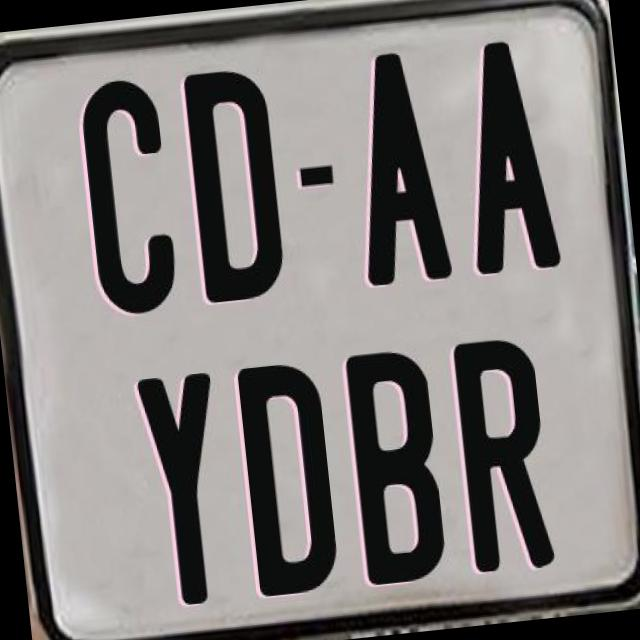A: (452, 38, 566, 283), (344, 45, 454, 283)
B: (345, 344, 451, 585)
C: (74, 77, 180, 326)
D: (178, 62, 289, 305), (235, 358, 345, 602)
R: (448, 334, 551, 579)
Y: (134, 372, 236, 616)
